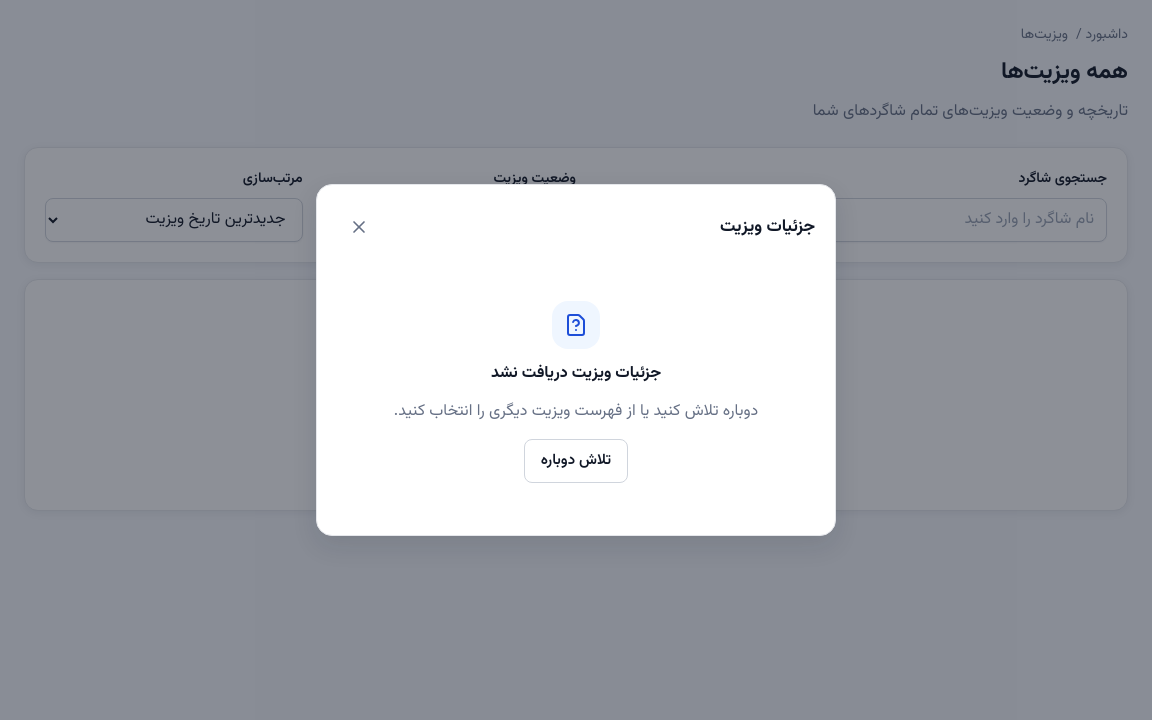
Test: Coach visit history failures › shows a failed exact-visit lookup and can close it without leaving the history
Expected: the heading "جزئیات ویزیت دریافت نشد" is shown, [491, 361, 661, 386]
Click the button named "بستن": (359, 227) [337, 205, 381, 249]
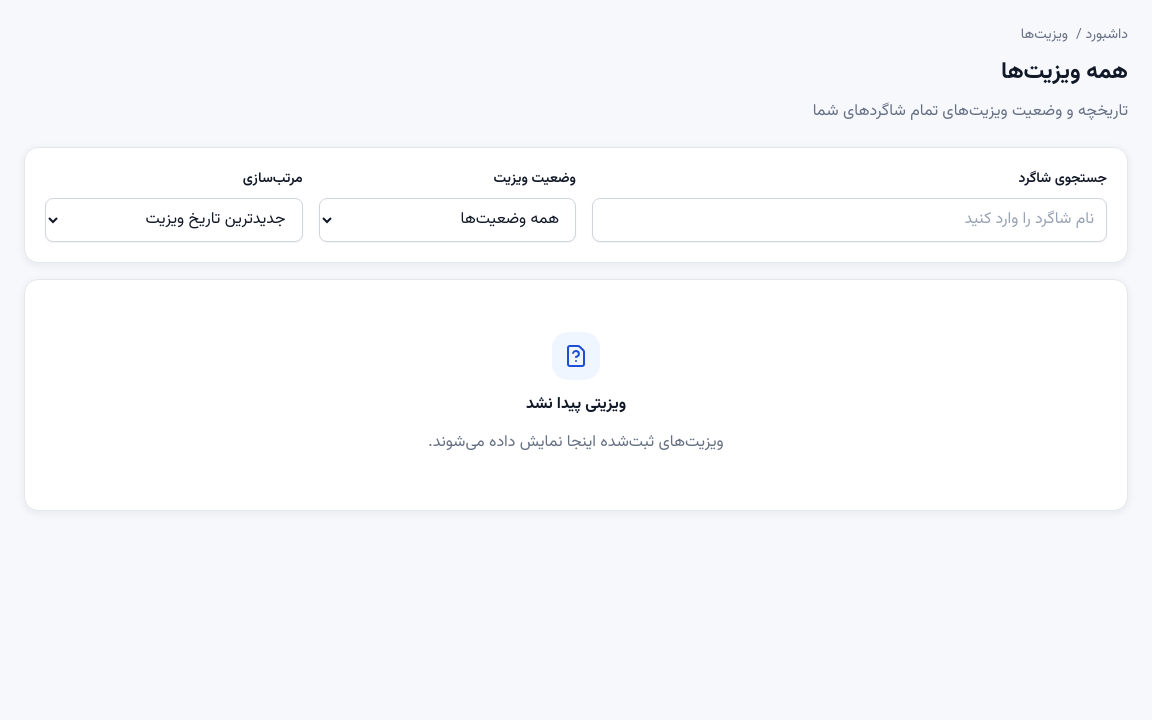
Expected: the heading "همه ویزیت‌ها" is shown, [1001, 54, 1128, 90]
Expected: the dialog is gone
